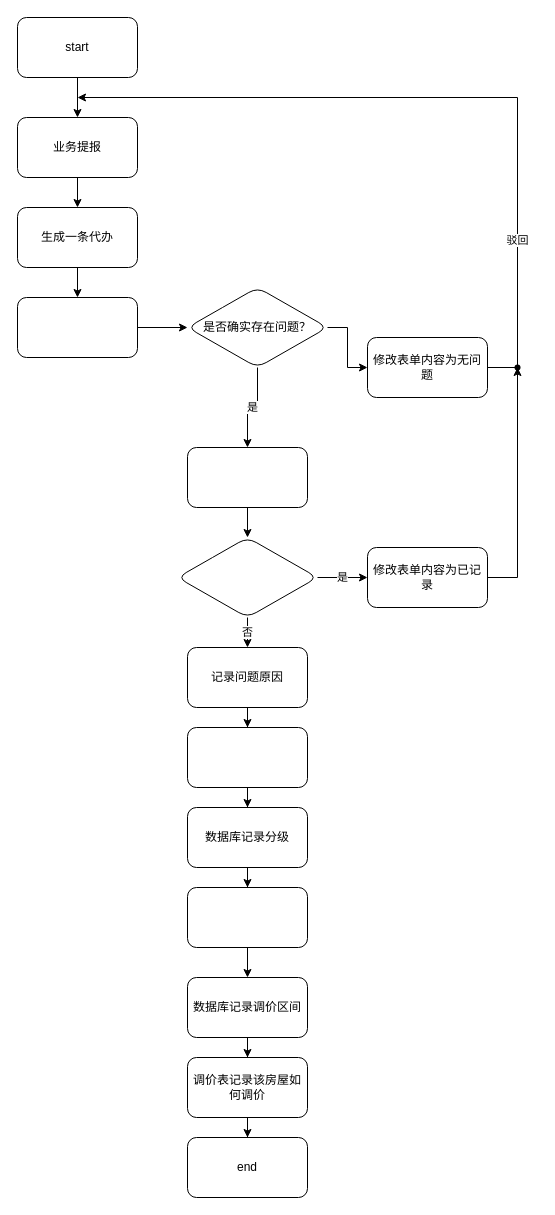
Some shapes in this 555 by 1215 pixel diagram are drawn without their labels. The shapes that lost their labels are listed below. From the top down, each one's centre as x and y in pixels, then its label:
At point 77,327: "人工审核".
At point 247,477: "数据库搜索对应的房源编号、房屋编号".
At point 247,577: "问题是否已记录？".
At point 247,757: "问题对应表查看问题分级".
At point 247,917: "查找该房屋累计级别对应调价区间".
